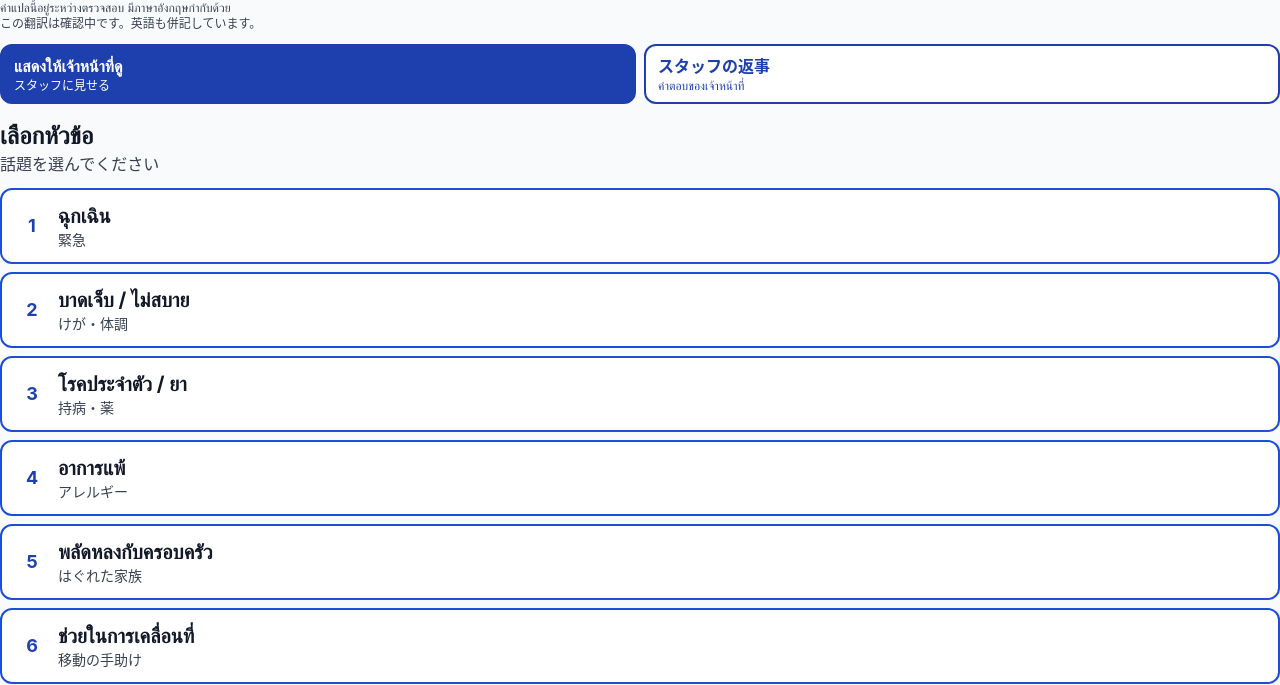
Test case: ConversationCards: スタッフが返す › 文を選ぶと訪日客の言語＋英語で大きく出て、はい／いいえ／わかりません で返せる
Click the button with test id "conv-mode-staff" at (714, 66), box [644,44,1279,104]
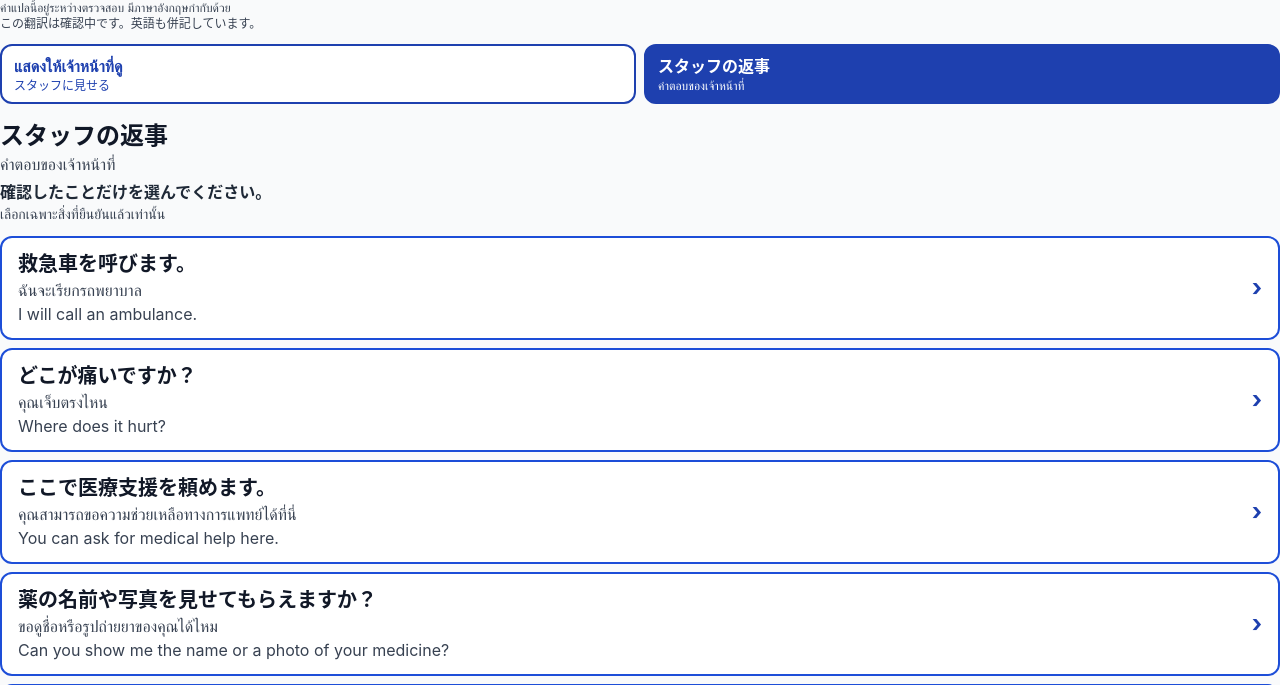
Click the button "どこが痛いですか？ คุณเจ็บตรงไหน Where does it hurt? ›" at (107, 376), box [0,348,1279,452]
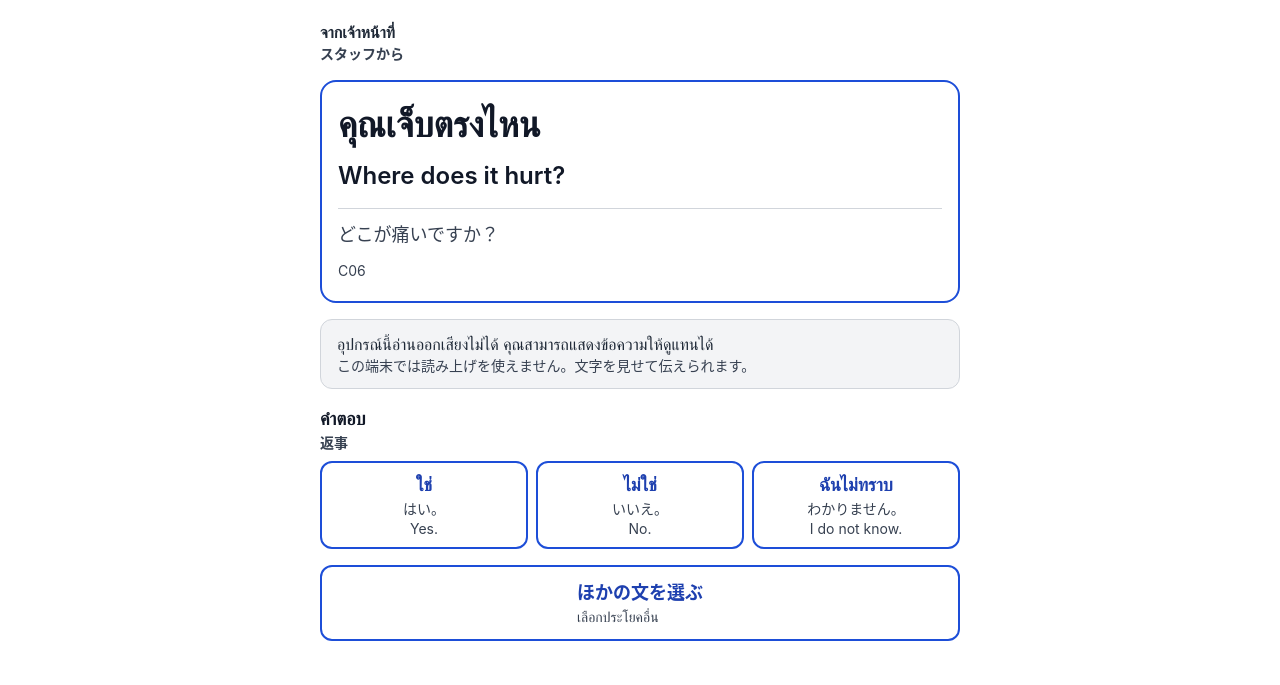
expect the text "どこが痛いですか？" is shown: met, box [338,208,942,249]
訪日客が「はい」を選ぶ → スタッフに見せるカードに切り替わる
Click the button "ใช่ はい。 Yes." at (424, 505), box [320,461,528,549]
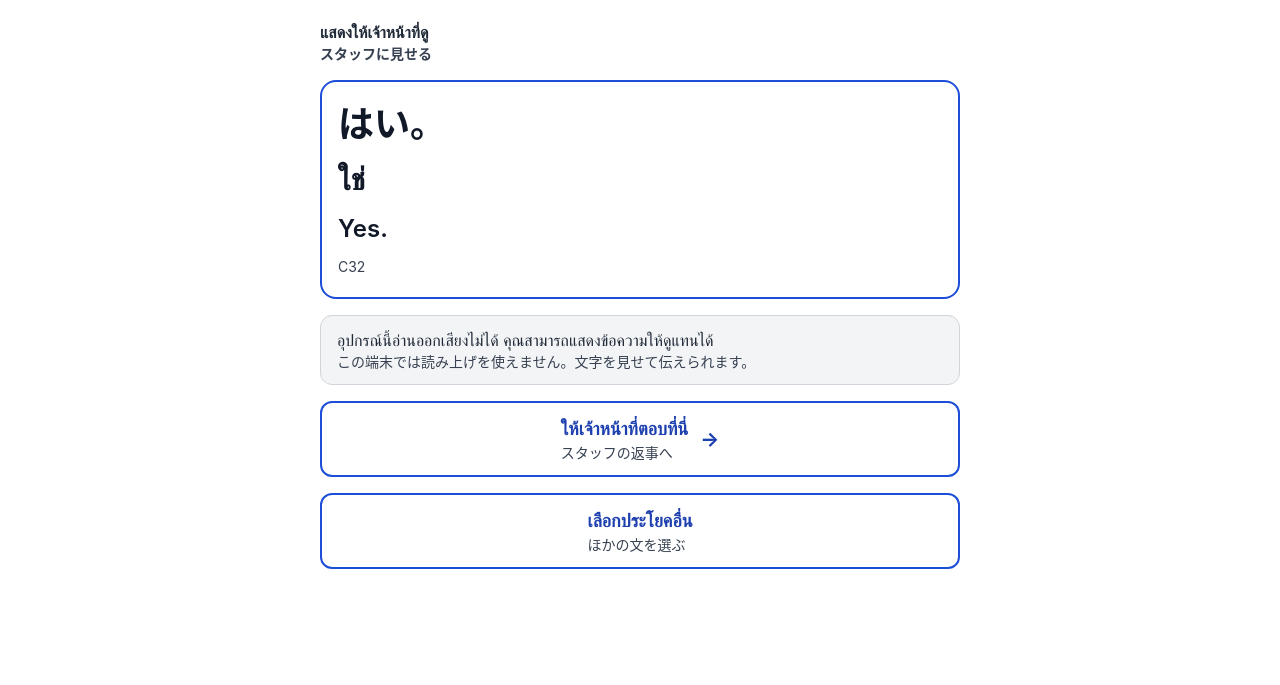
expect the text "はい。" is shown: met, box [338,102,446,146]
